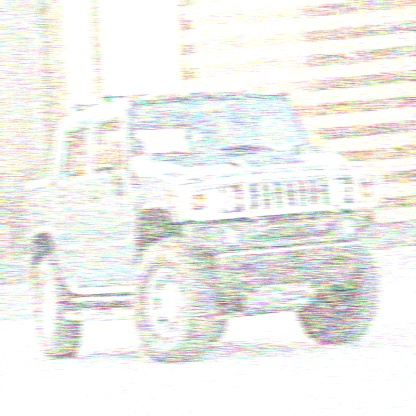Vehicle: (22, 85, 384, 363)
